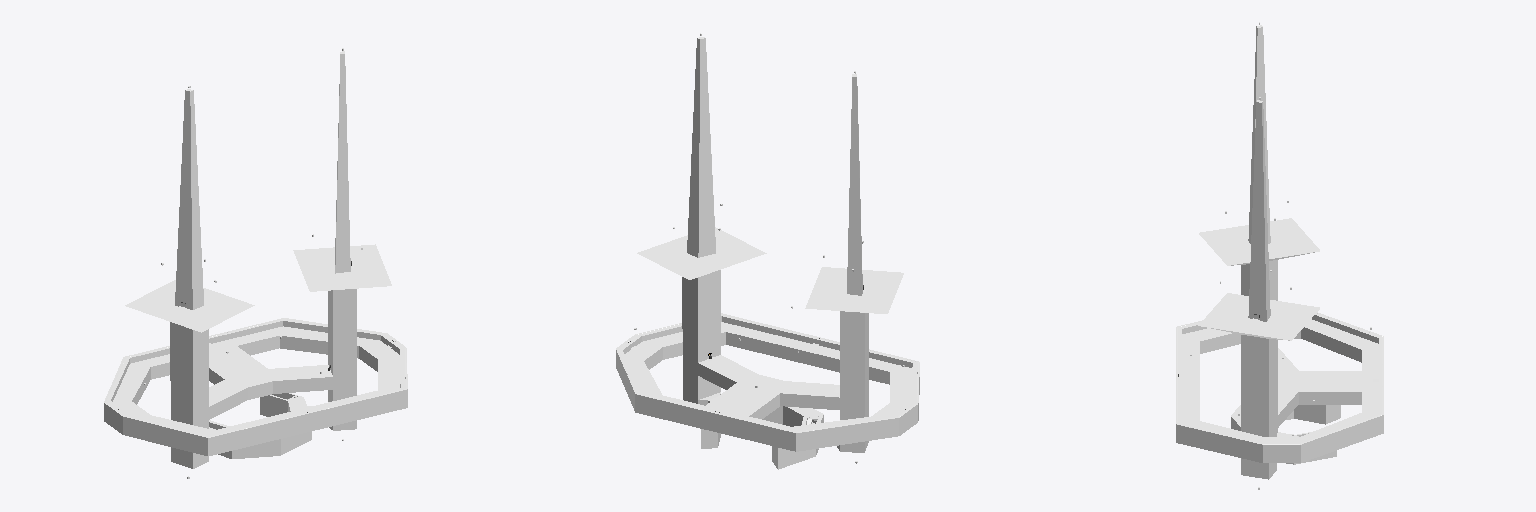
The picture shows the model from 3 angles: view 1: azimuth 30°, elevation 25°; view 2: azimuth 150°, elevation 25°; view 3: azimuth 270°, elevation 25°; orthographic projection.
Visible parts, largest first — view 1: visual1, collide1; view 2: visual1, collide1; view 3: visual1, collide1.
Part boxes in pixels (bbox=[...]): visual1: bbox=[104, 51, 407, 468]; collide1: bbox=[104, 318, 407, 458]; visual1: bbox=[616, 37, 919, 469]; collide1: bbox=[616, 313, 919, 468]; visual1: bbox=[1176, 25, 1383, 479]; collide1: bbox=[1176, 312, 1383, 463].
Bounding box in the file's own units: 354 × 467 × 225.
19 materials, 1 textured.